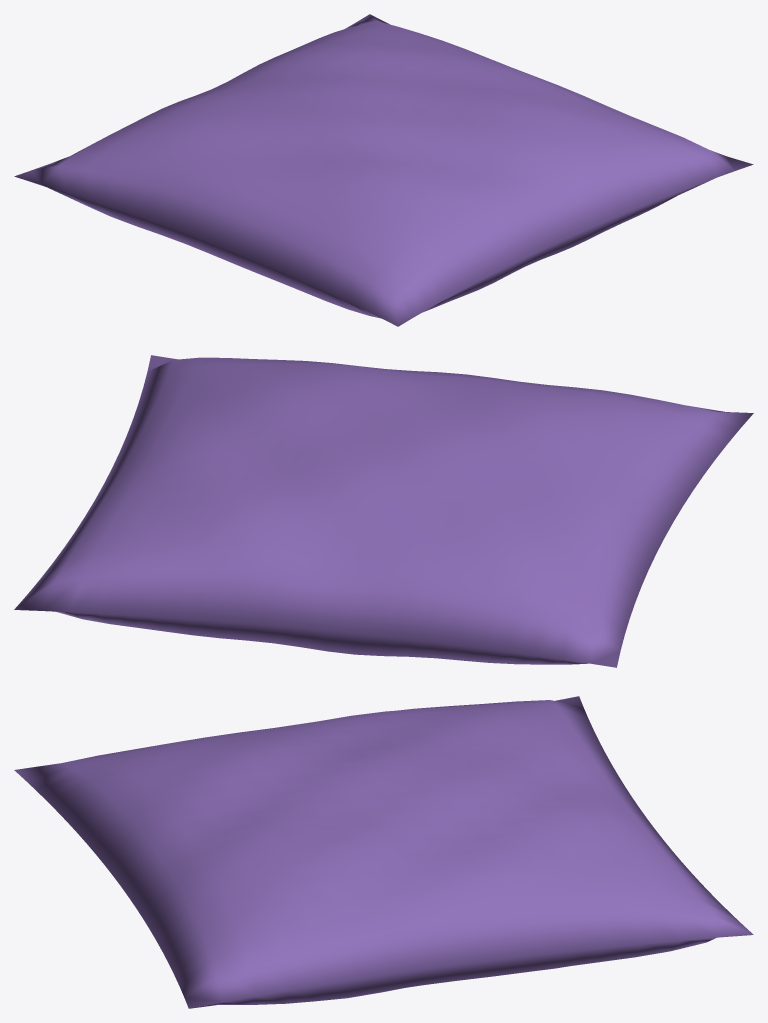
Rendered from floor_cushion.fbx.
3 renders of one model, top to bottom at view 1: azimuth 30°, elevation 25°; view 2: azimuth 150°, elevation 25°; view 3: azimuth 270°, elevation 25°, orthographic. The views are drawn at different scales.
Visible parts, largest first — view 1: floor_cushion; view 2: floor_cushion; view 3: floor_cushion.
Part boxes in pixels (bbox=[...]): floor_cushion: bbox=[14, 14, 753, 326]; floor_cushion: bbox=[14, 355, 753, 667]; floor_cushion: bbox=[14, 696, 753, 1008].
Bounding box in the file's own units: 0.7755 × 0.1552 × 0.7755.
